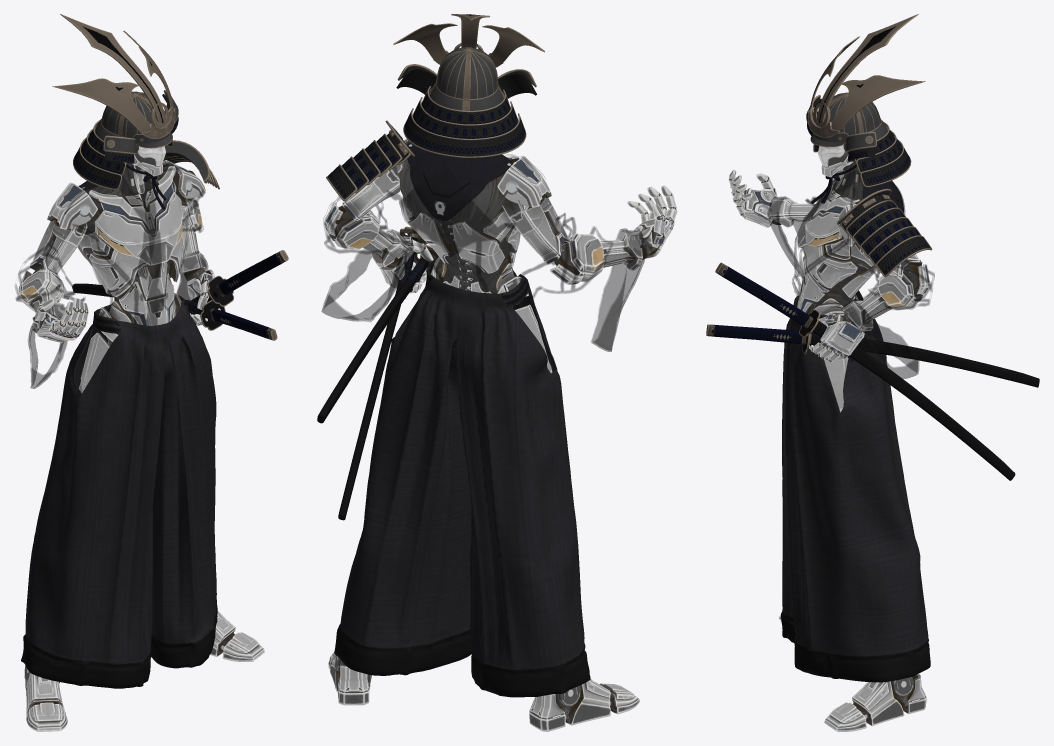
Rendered from cyber_samurai-transformed.glb.
The picture shows the model from 3 angles, left to right: view 1: azimuth 30°, elevation 25°; view 2: azimuth 150°, elevation 25°; view 3: azimuth 270°, elevation 25°; orthographic projection. The views are drawn at different scales.
Visible parts, largest first — view 1: Object_2, Object_5, Object_17, Object_3, Object_13, Object_16, Object_19, Object_18, Object_7, Object_15, Object_14; view 2: Object_2, Object_17, Object_3, Object_5, Object_16, Object_13, Object_19, Object_18, Object_14, Object_6; view 3: Object_2, Object_17, Object_19, Object_5, Object_3, Object_16, Object_13, Object_18, Object_7, Object_15, Object_14.
Part boxes in pixels (x1=…): Object_2: x1=21, y1=295, x2=217, y2=688; Object_5: x1=55, y1=163, x2=195, y2=345; Object_17: x1=52, y1=14, x2=178, y2=189; Object_3: x1=15, y1=167, x2=208, y2=388; Object_13: x1=18, y1=160, x2=264, y2=731; Object_16: x1=21, y1=196, x2=214, y2=683; Object_19: x1=72, y1=250, x2=288, y2=340; Object_18: x1=126, y1=140, x2=219, y2=209; Object_7: x1=99, y1=146, x2=181, y2=341; Object_15: x1=55, y1=332, x2=110, y2=393; Object_14: x1=32, y1=264, x2=212, y2=328; Object_2: x1=334, y1=257, x2=590, y2=697; Object_17: x1=393, y1=14, x2=544, y2=157; Object_3: x1=321, y1=154, x2=646, y2=351; Object_5: x1=399, y1=143, x2=524, y2=307; Object_16: x1=328, y1=165, x2=671, y2=718; Object_13: x1=324, y1=139, x2=672, y2=731; Object_19: x1=317, y1=226, x2=438, y2=520; Object_18: x1=326, y1=120, x2=414, y2=201; Object_14: x1=335, y1=204, x2=666, y2=274; Object_6: x1=439, y1=217, x2=475, y2=290; Object_2: x1=781, y1=290, x2=930, y2=682; Object_17: x1=806, y1=14, x2=925, y2=187; Object_19: x1=706, y1=262, x2=1039, y2=480; Object_5: x1=797, y1=161, x2=903, y2=314; Object_3: x1=767, y1=170, x2=934, y2=378; Object_16: x1=743, y1=198, x2=923, y2=706; Object_13: x1=743, y1=171, x2=930, y2=731; Object_18: x1=811, y1=164, x2=932, y2=277; Object_7: x1=817, y1=144, x2=858, y2=315; Object_15: x1=743, y1=214, x2=848, y2=412; Object_14: x1=756, y1=173, x2=919, y2=326.
Size of the model in its own units: 1.04 by 2.43 by 1.15.
5 materials, 5 textured.
